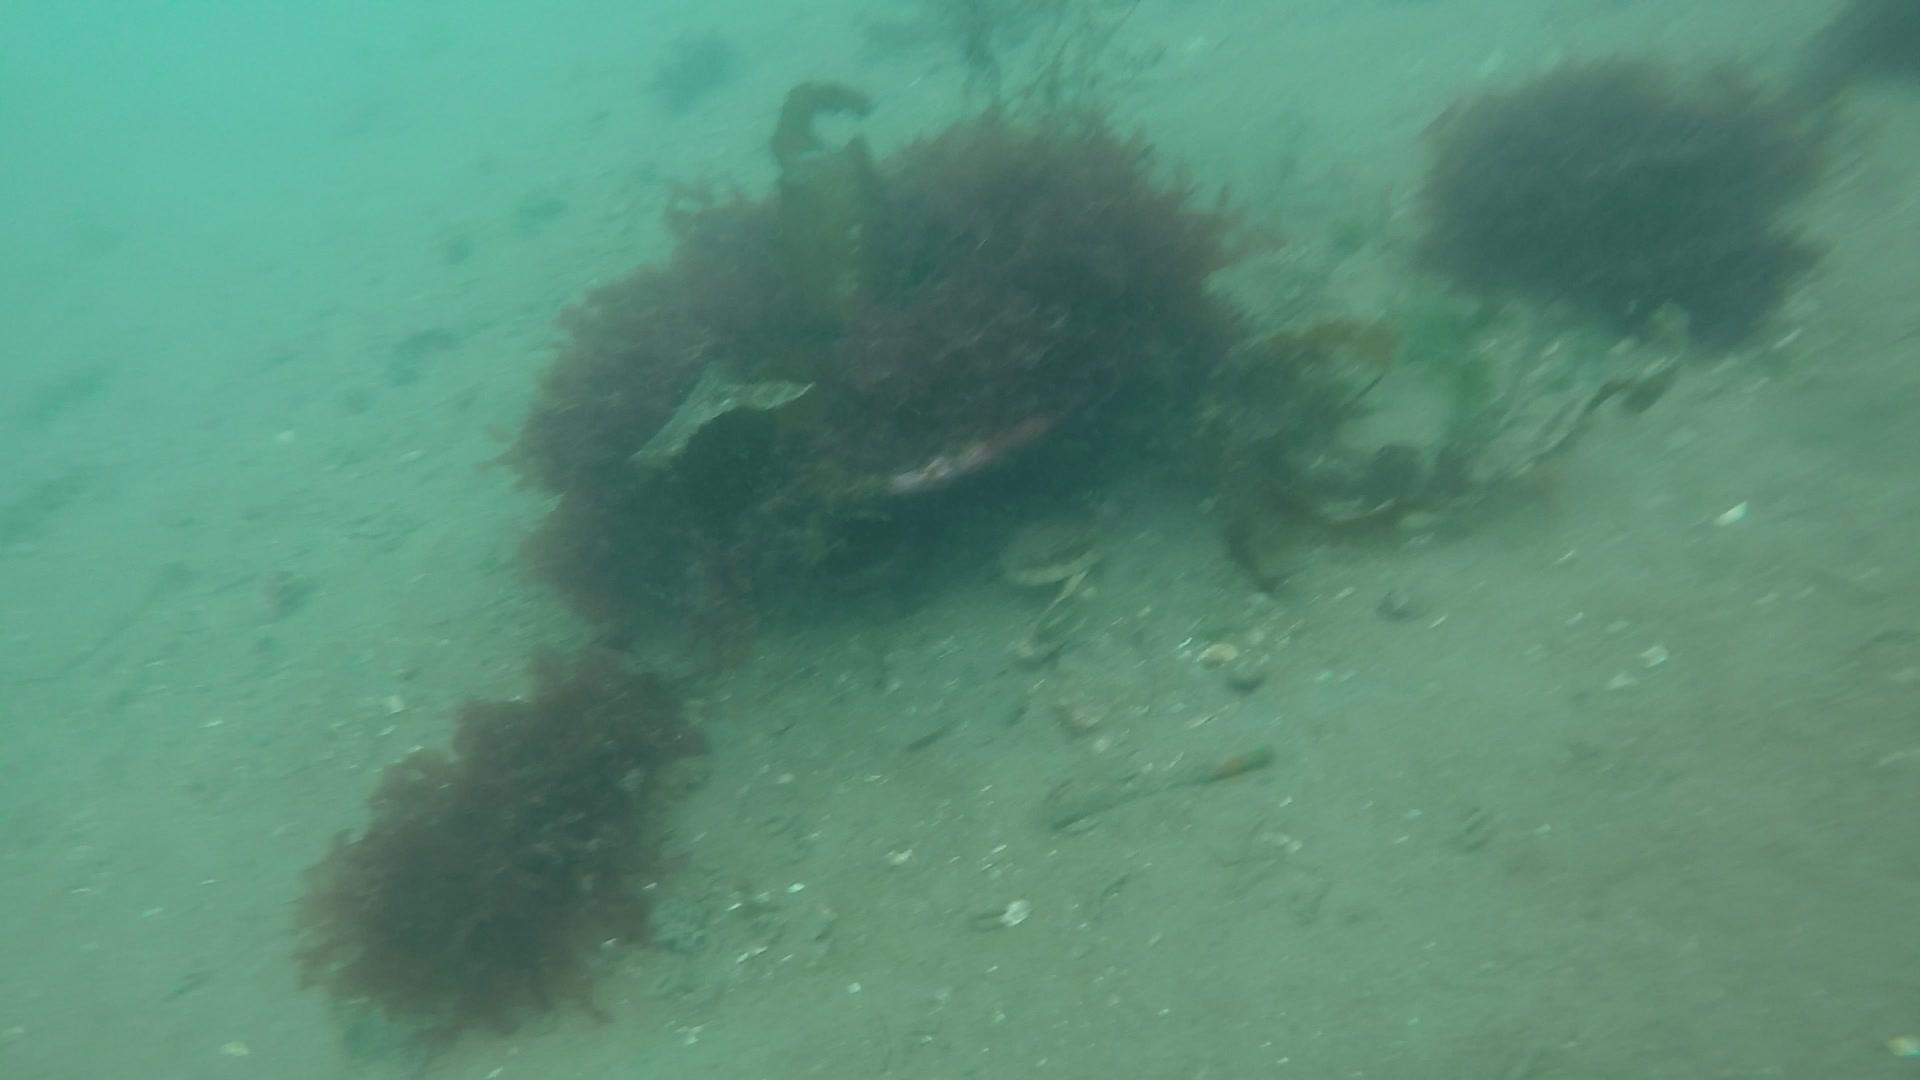scallop: (992, 520, 1110, 589)
